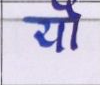au_matra: (58, 0, 89, 48)
